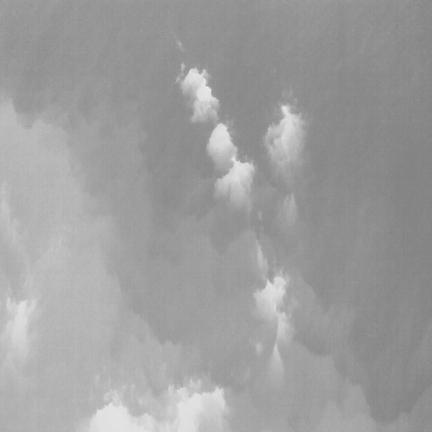flukeprints: (265, 105, 302, 162), (215, 158, 254, 208), (254, 276, 286, 321), (207, 123, 236, 163), (178, 68, 206, 97), (196, 79, 218, 109)
